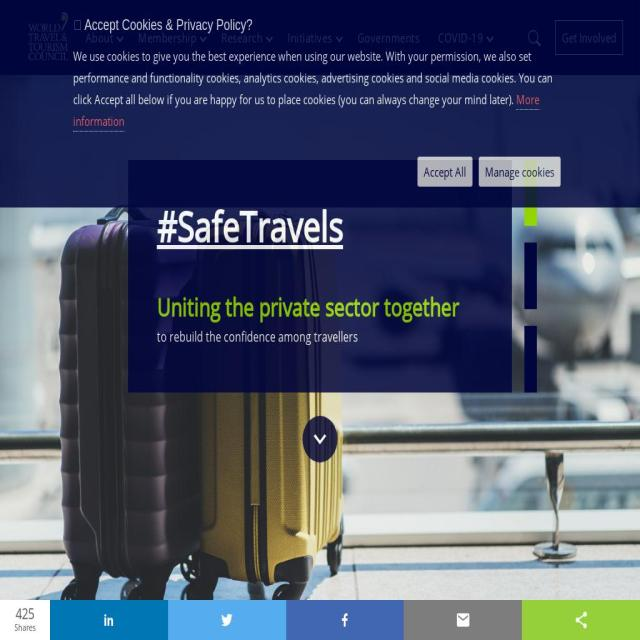button: (73, 90, 540, 132), (128, 17, 212, 58), (348, 17, 430, 58), (278, 17, 348, 58), (429, 17, 499, 58), (212, 17, 279, 58), (478, 156, 561, 186), (555, 20, 623, 55), (76, 17, 130, 58), (417, 156, 472, 186)
heading: (156, 289, 484, 324), (73, 13, 567, 36), (156, 197, 343, 255)
image: (0, 75, 640, 640), (128, 415, 512, 463), (20, 0, 76, 75), (524, 159, 538, 227), (524, 242, 538, 310), (524, 326, 538, 392), (101, 610, 117, 630), (219, 610, 235, 630), (455, 610, 471, 630), (573, 610, 589, 630), (337, 610, 352, 630)
text: (73, 48, 553, 108), (156, 326, 484, 346), (136, 91, 516, 107), (138, 29, 197, 46), (438, 29, 484, 46), (288, 29, 333, 46), (5, 605, 45, 623), (221, 29, 263, 46), (95, 91, 136, 107), (85, 29, 114, 46), (5, 622, 45, 632)
